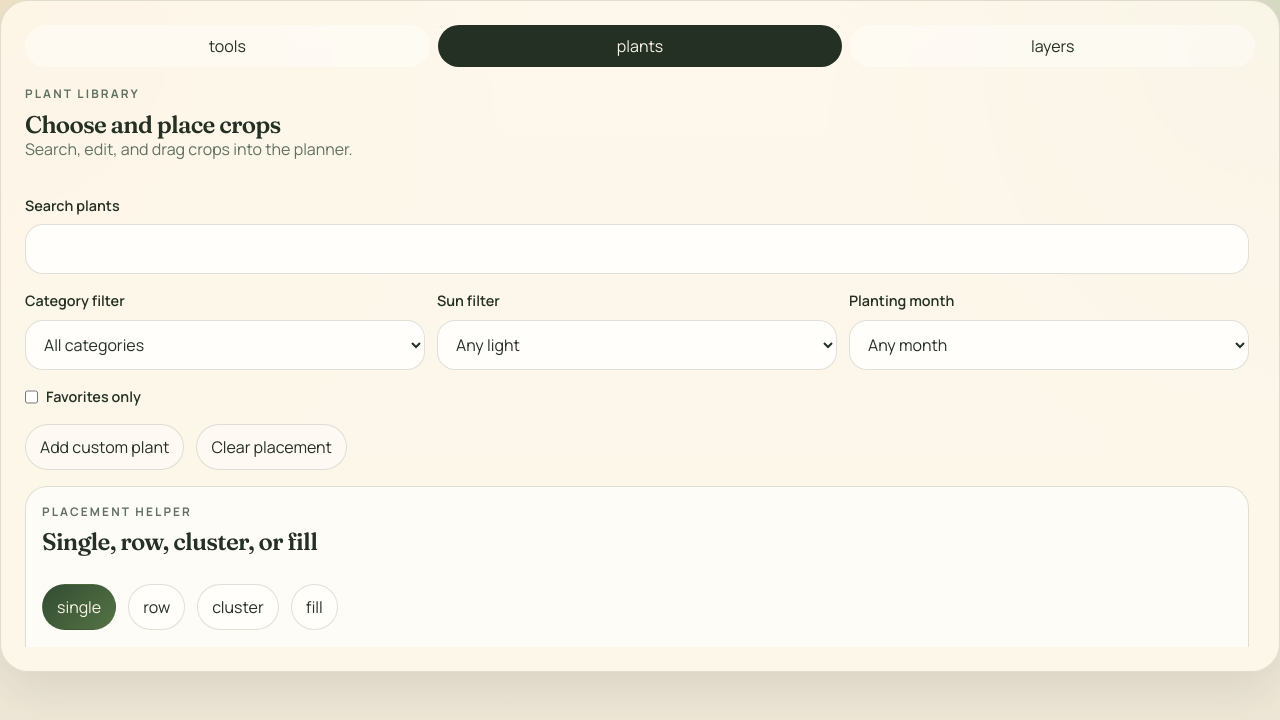
it: PlannerSidebar › filters plants by favorites and category metadata
Select "Fruiting" in the dropdown labelled "Category filter": (225, 345) [25,320,425,370]
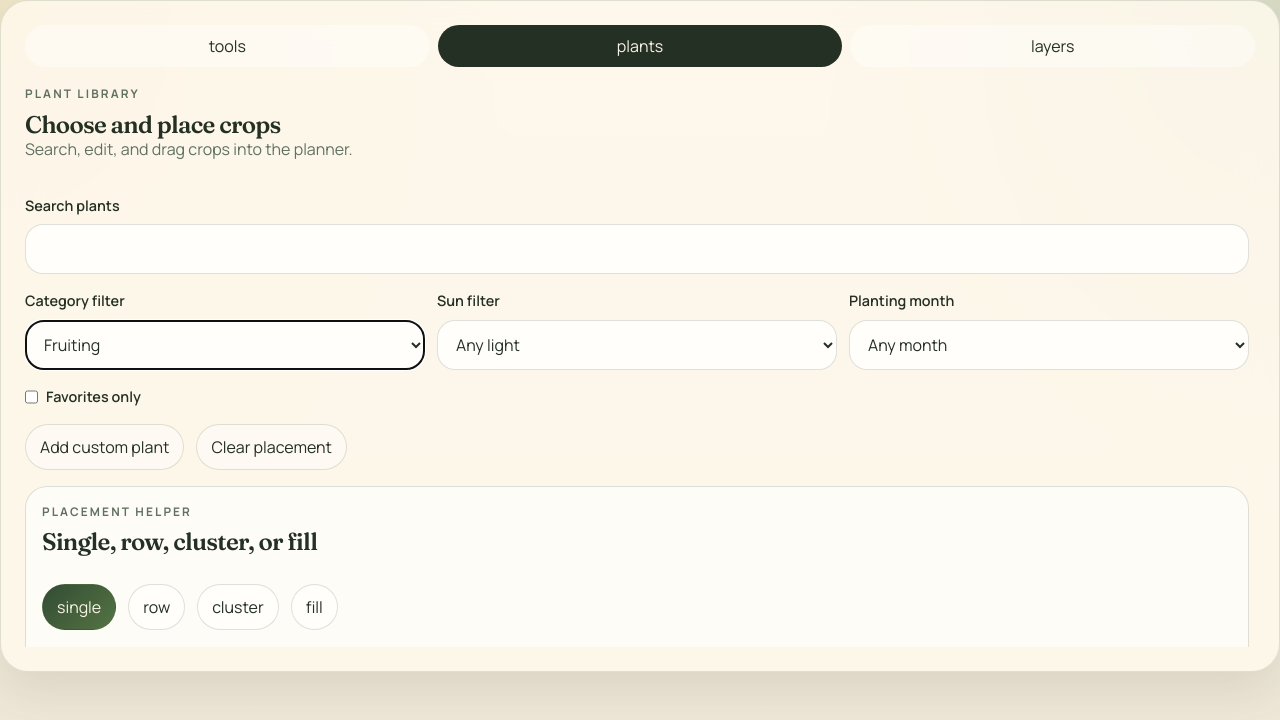
Click the checkbox labelled "Favorites only": (32, 397) [25,388,38,406]
(page scrolled)
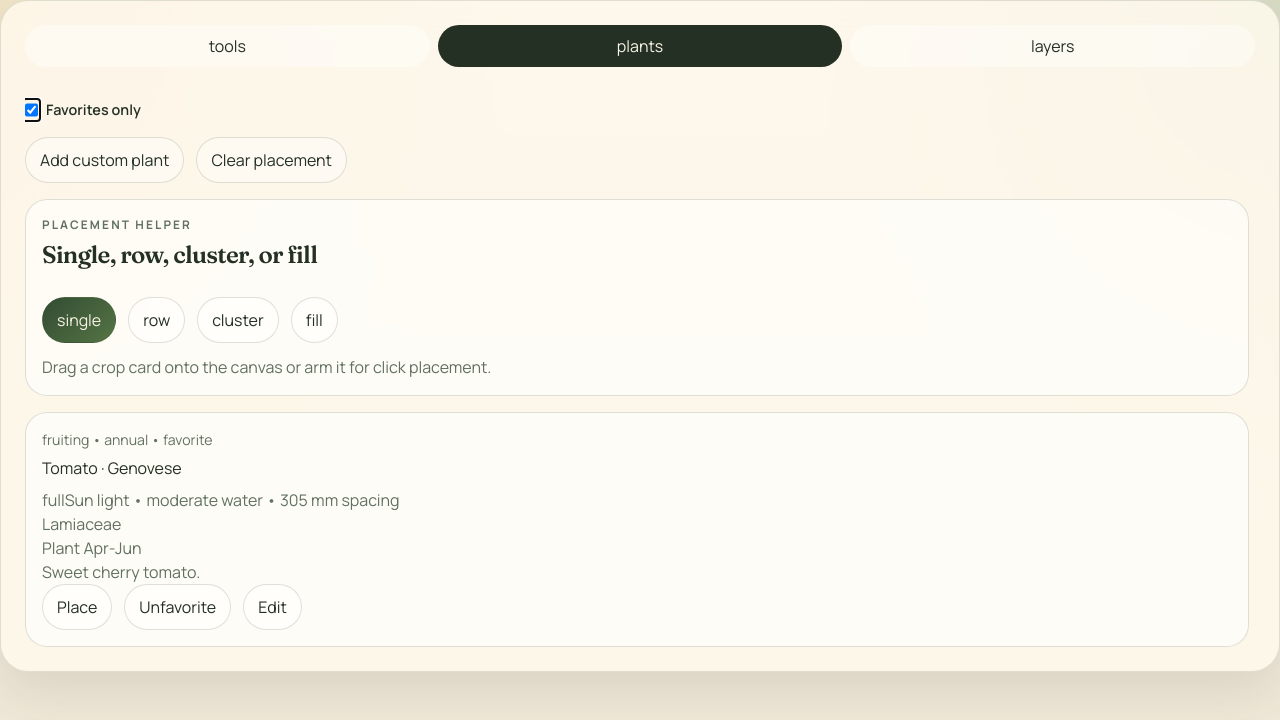
Check: the heading "Tomato · Genovese" is shown, box [42,458,182,480]
